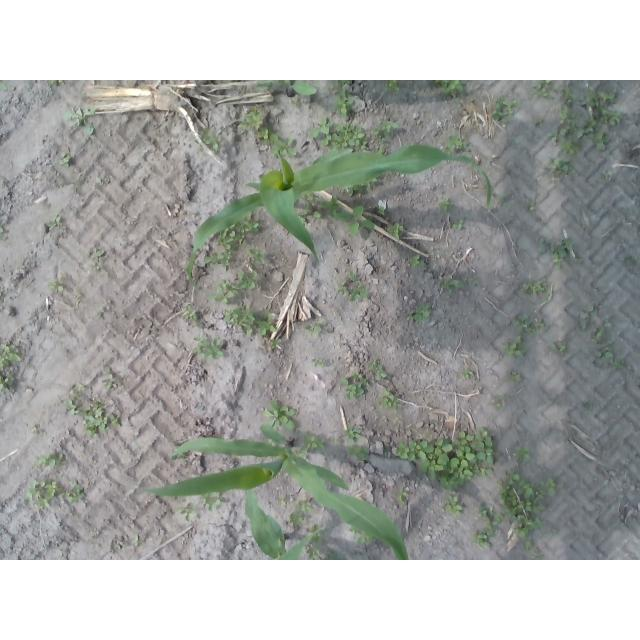Maize: (185, 142, 492, 291), (141, 421, 412, 560), (246, 484, 323, 560), (256, 80, 319, 98)
Weeds: (394, 425, 498, 491), (498, 471, 547, 538), (536, 106, 584, 155), (321, 195, 376, 236), (309, 117, 369, 152), (217, 212, 260, 251), (79, 401, 121, 439), (580, 90, 621, 127), (221, 304, 259, 336), (23, 479, 61, 511), (238, 105, 270, 139), (540, 239, 574, 270), (63, 106, 98, 136), (263, 399, 297, 429), (260, 131, 296, 158), (330, 81, 354, 120), (339, 372, 369, 401), (477, 504, 504, 536), (298, 190, 321, 226), (192, 336, 224, 360), (544, 158, 577, 181), (492, 95, 519, 123), (339, 177, 378, 196), (208, 282, 240, 305), (512, 313, 545, 335), (66, 381, 87, 415), (195, 127, 221, 154), (520, 280, 553, 301), (584, 126, 611, 151), (291, 498, 314, 527), (434, 81, 468, 100), (1, 342, 24, 370), (373, 120, 400, 142), (349, 522, 376, 544), (442, 134, 470, 155), (502, 336, 527, 358), (33, 452, 67, 468), (379, 388, 402, 411), (200, 489, 224, 511), (63, 480, 85, 504), (203, 251, 232, 269), (407, 302, 432, 322), (439, 275, 465, 294), (442, 493, 463, 515), (531, 80, 554, 100), (236, 270, 258, 290), (259, 313, 278, 336), (303, 433, 326, 452), (576, 304, 593, 329), (346, 444, 370, 461), (178, 502, 198, 522), (369, 360, 388, 381), (100, 366, 116, 390), (304, 318, 324, 337), (309, 523, 328, 543), (344, 425, 364, 443), (349, 285, 368, 303), (472, 532, 493, 548), (594, 346, 614, 362), (385, 223, 403, 240), (514, 444, 531, 461), (248, 248, 266, 264), (90, 248, 102, 270), (170, 444, 186, 460), (550, 343, 567, 358), (408, 255, 425, 270), (561, 87, 576, 104), (1, 372, 16, 388), (438, 198, 454, 213), (344, 270, 361, 283), (384, 80, 401, 93), (183, 306, 197, 321), (337, 281, 351, 296), (58, 152, 71, 168), (592, 326, 605, 342), (545, 478, 556, 496), (599, 170, 613, 184), (45, 215, 60, 228), (398, 489, 409, 506), (50, 282, 64, 295), (305, 546, 319, 559), (495, 397, 507, 410), (498, 194, 510, 207), (460, 369, 474, 380), (525, 200, 537, 212), (264, 437, 277, 448), (270, 339, 283, 350), (612, 359, 625, 370), (508, 373, 522, 383), (452, 219, 464, 230), (312, 358, 325, 368), (293, 450, 307, 459), (530, 549, 541, 560), (328, 552, 343, 560), (47, 81, 63, 88), (524, 539, 533, 551), (375, 145, 385, 155), (0, 80, 8, 92), (96, 177, 105, 187), (292, 97, 301, 107), (93, 312, 103, 320), (278, 498, 287, 506), (377, 206, 385, 215), (467, 277, 475, 283), (115, 543, 122, 549), (0, 226, 4, 234)
